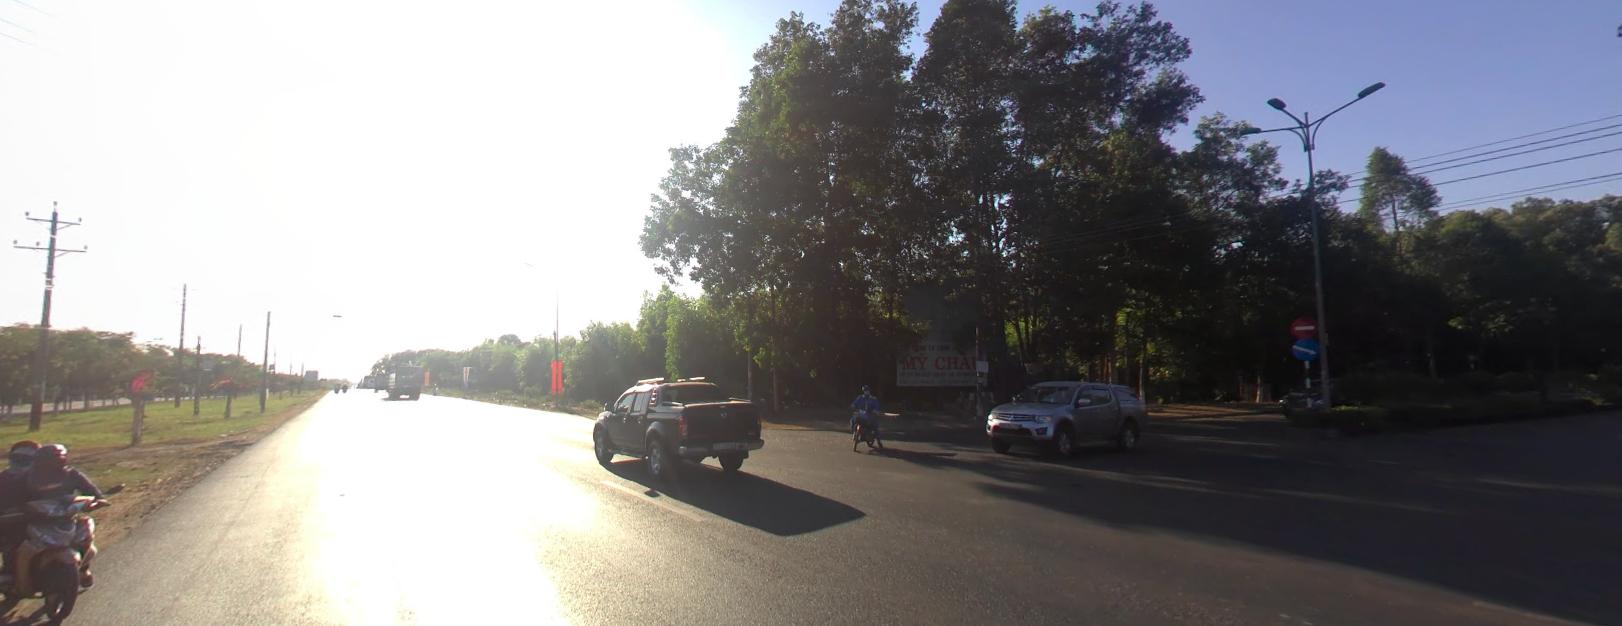Cam nguoc chieu: (1290, 311, 1316, 335)
Hieu lenh: (1289, 334, 1321, 358)
